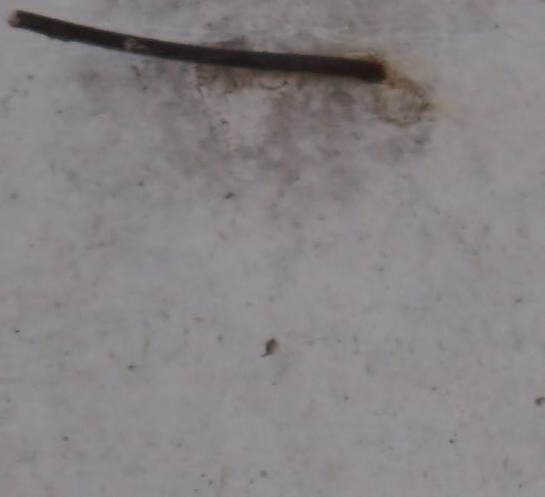Exposed reinforcement: (7, 9, 386, 84)
